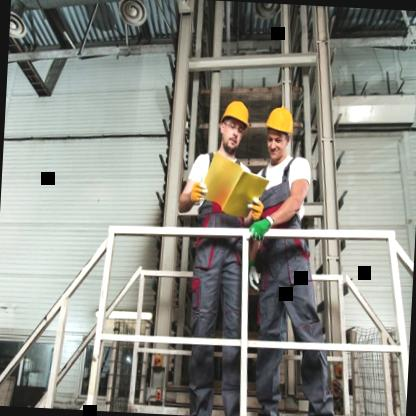helmet: (259, 101, 298, 163), (215, 94, 254, 150)
